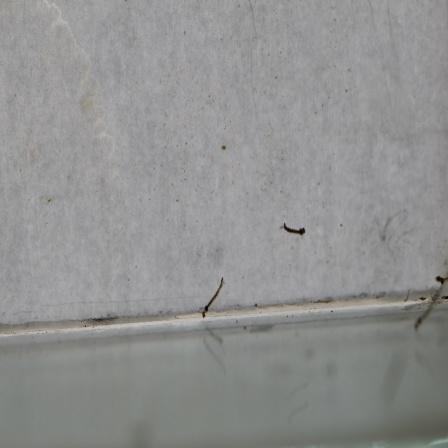Jentik-Nyamuk: (199, 275, 228, 322), (277, 218, 309, 241)
